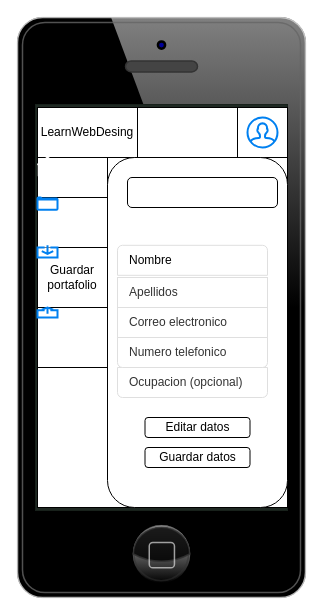
This 323x615 diagram has some shape labels left out. Here are the shapes that lost their labels. From the top down, the box of each, then its label:
(36, 156, 108, 198): Inicio
(126, 176, 278, 208): Datos de usuario
(36, 196, 108, 248): Nuevo portafolio
(36, 306, 108, 368): Compartir portafolio
